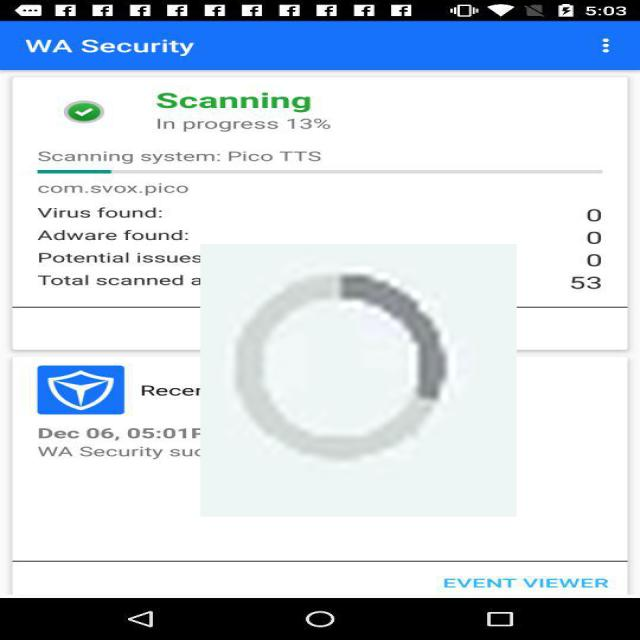misdirection: (200, 244, 517, 517)
